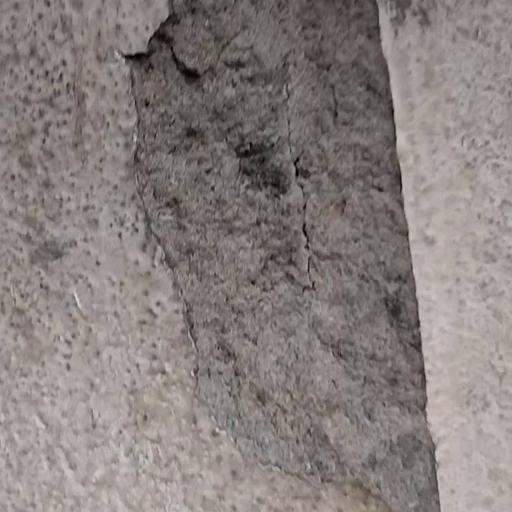spalling: (121, 0, 444, 512)
